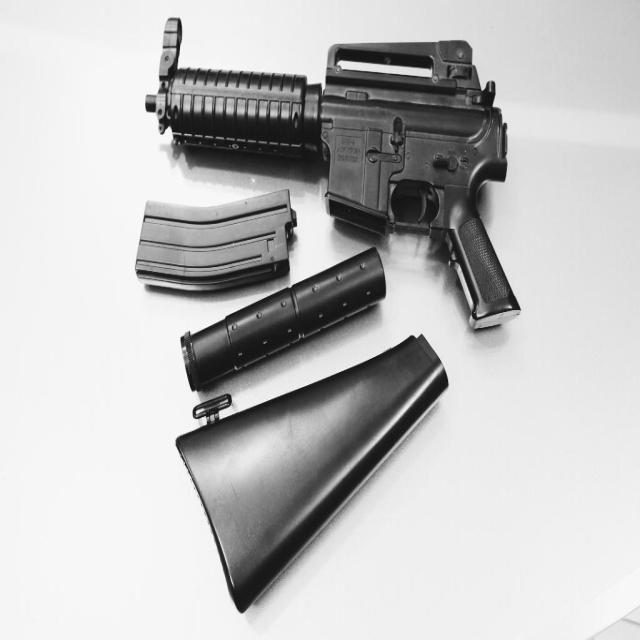Gun: (149, 19, 517, 328)
